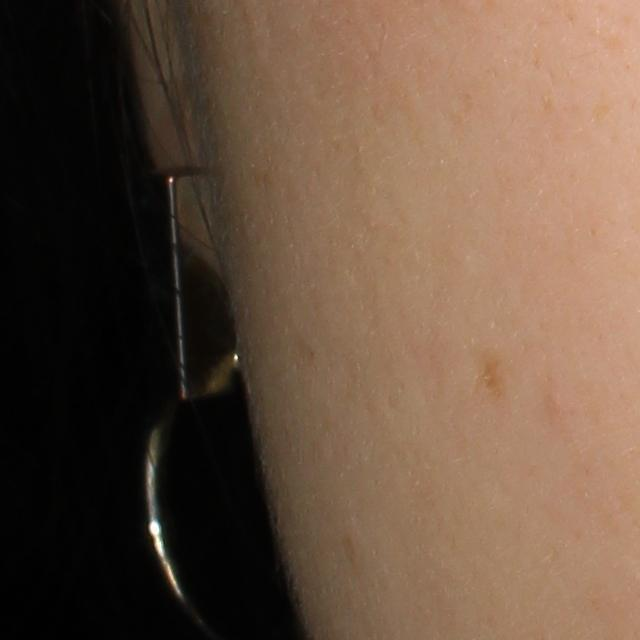melasma: (470, 345, 513, 408)
